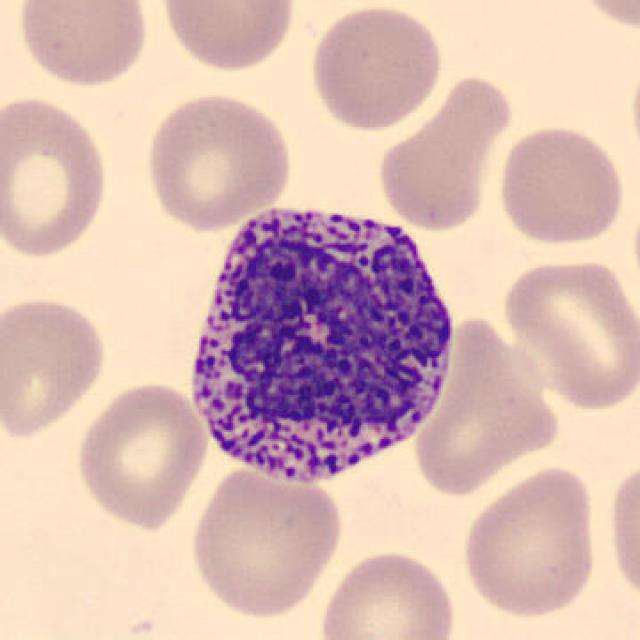Basophil: (176, 187, 468, 499)
RBC: (414, 314, 560, 487), (187, 464, 345, 622), (457, 460, 603, 622), (141, 88, 295, 233), (498, 254, 638, 412), (377, 75, 517, 232), (71, 378, 212, 532), (0, 91, 114, 262), (304, 2, 446, 134), (492, 120, 630, 248), (0, 292, 112, 442), (314, 545, 460, 640), (12, 0, 153, 90), (153, 0, 300, 74), (604, 455, 640, 612), (569, 0, 640, 33), (627, 49, 640, 177)
